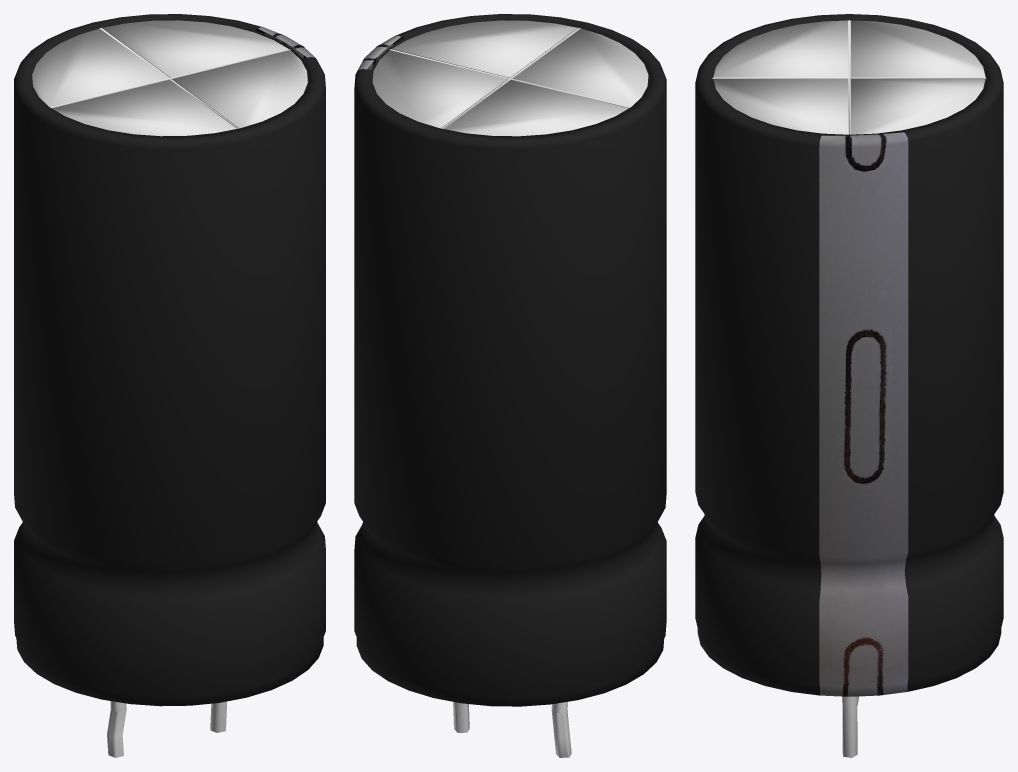
File: ElectrolyticCapacitor.fbx
The picture shows the model from 3 angles, left to right: view 1: azimuth 30°, elevation 25°; view 2: azimuth 150°, elevation 25°; view 3: azimuth 270°, elevation 25°; orthographic projection.
Visible parts, largest first — view 1: Cylinder, Cylinder.001; view 2: Cylinder, Cylinder.001; view 3: Cylinder, Cylinder.002.
Part boxes in pixels (x1,y1,x2,y2): Cylinder: (14,14,325,706); Cylinder.001: (107,701,126,757); Cylinder: (354,14,666,706); Cylinder.001: (551,701,571,757); Cylinder: (695,14,1003,696); Cylinder.002: (842,696,857,757).
Bounding box in the file's own units: 73.78 × 173 × 73.78.
Materials: 3 (1 with a texture image).
